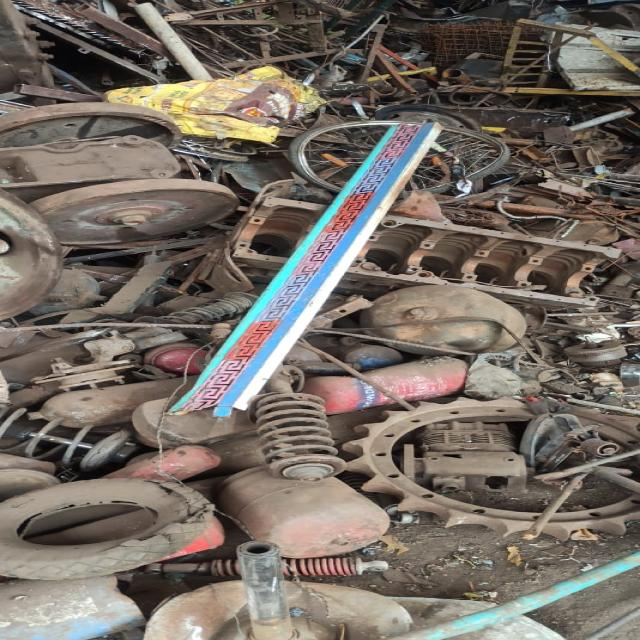Cylinder: (211, 465, 391, 558), (359, 284, 528, 354), (301, 357, 473, 416), (27, 376, 200, 426), (95, 446, 225, 482), (144, 341, 208, 376)
Shock-Absorbers: (255, 366, 349, 484), (283, 558, 389, 575), (145, 560, 243, 576)
large-shock-absorbers: (0, 419, 142, 473)
